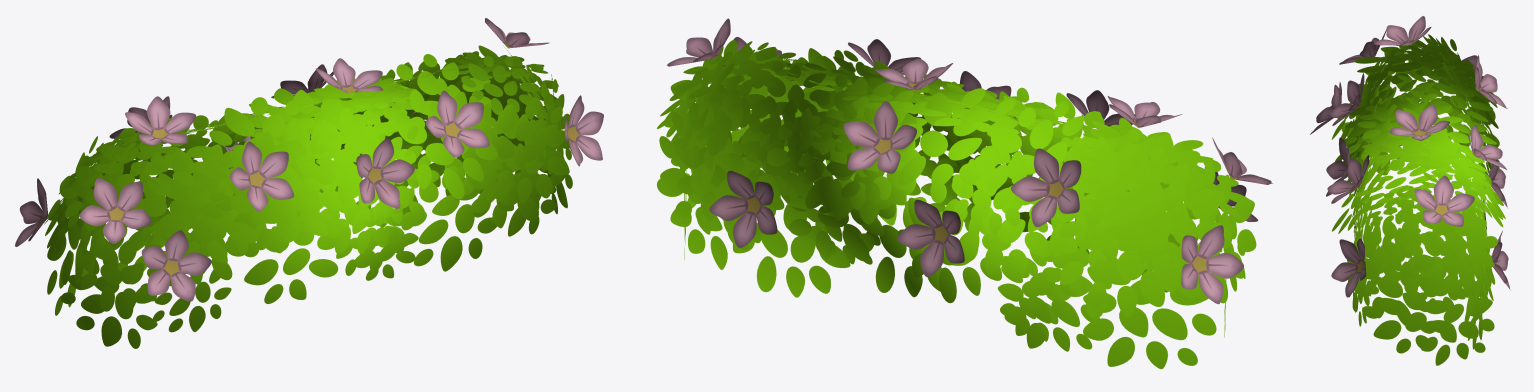
The model's file is Bush_Small_Flowers.gltf.
3 renders of one model, left to right at view 1: azimuth 30°, elevation 25°; view 2: azimuth 150°, elevation 25°; view 3: azimuth 270°, elevation 25°, orthographic. The views are drawn at different scales.
Visible parts, largest first — view 1: Bush_Small_Flowers; view 2: Bush_Small_Flowers; view 3: Bush_Small_Flowers.
Part boxes in pixels (x1=…): Bush_Small_Flowers: x1=15, y1=18, x2=603, y2=348; Bush_Small_Flowers: x1=657, y1=18, x2=1272, y2=368; Bush_Small_Flowers: x1=1310, y1=16, x2=1510, y2=365.
Bounding box in the file's own units: 1.93 × 0.8168 × 0.7617.
2 materials, 2 textured.
